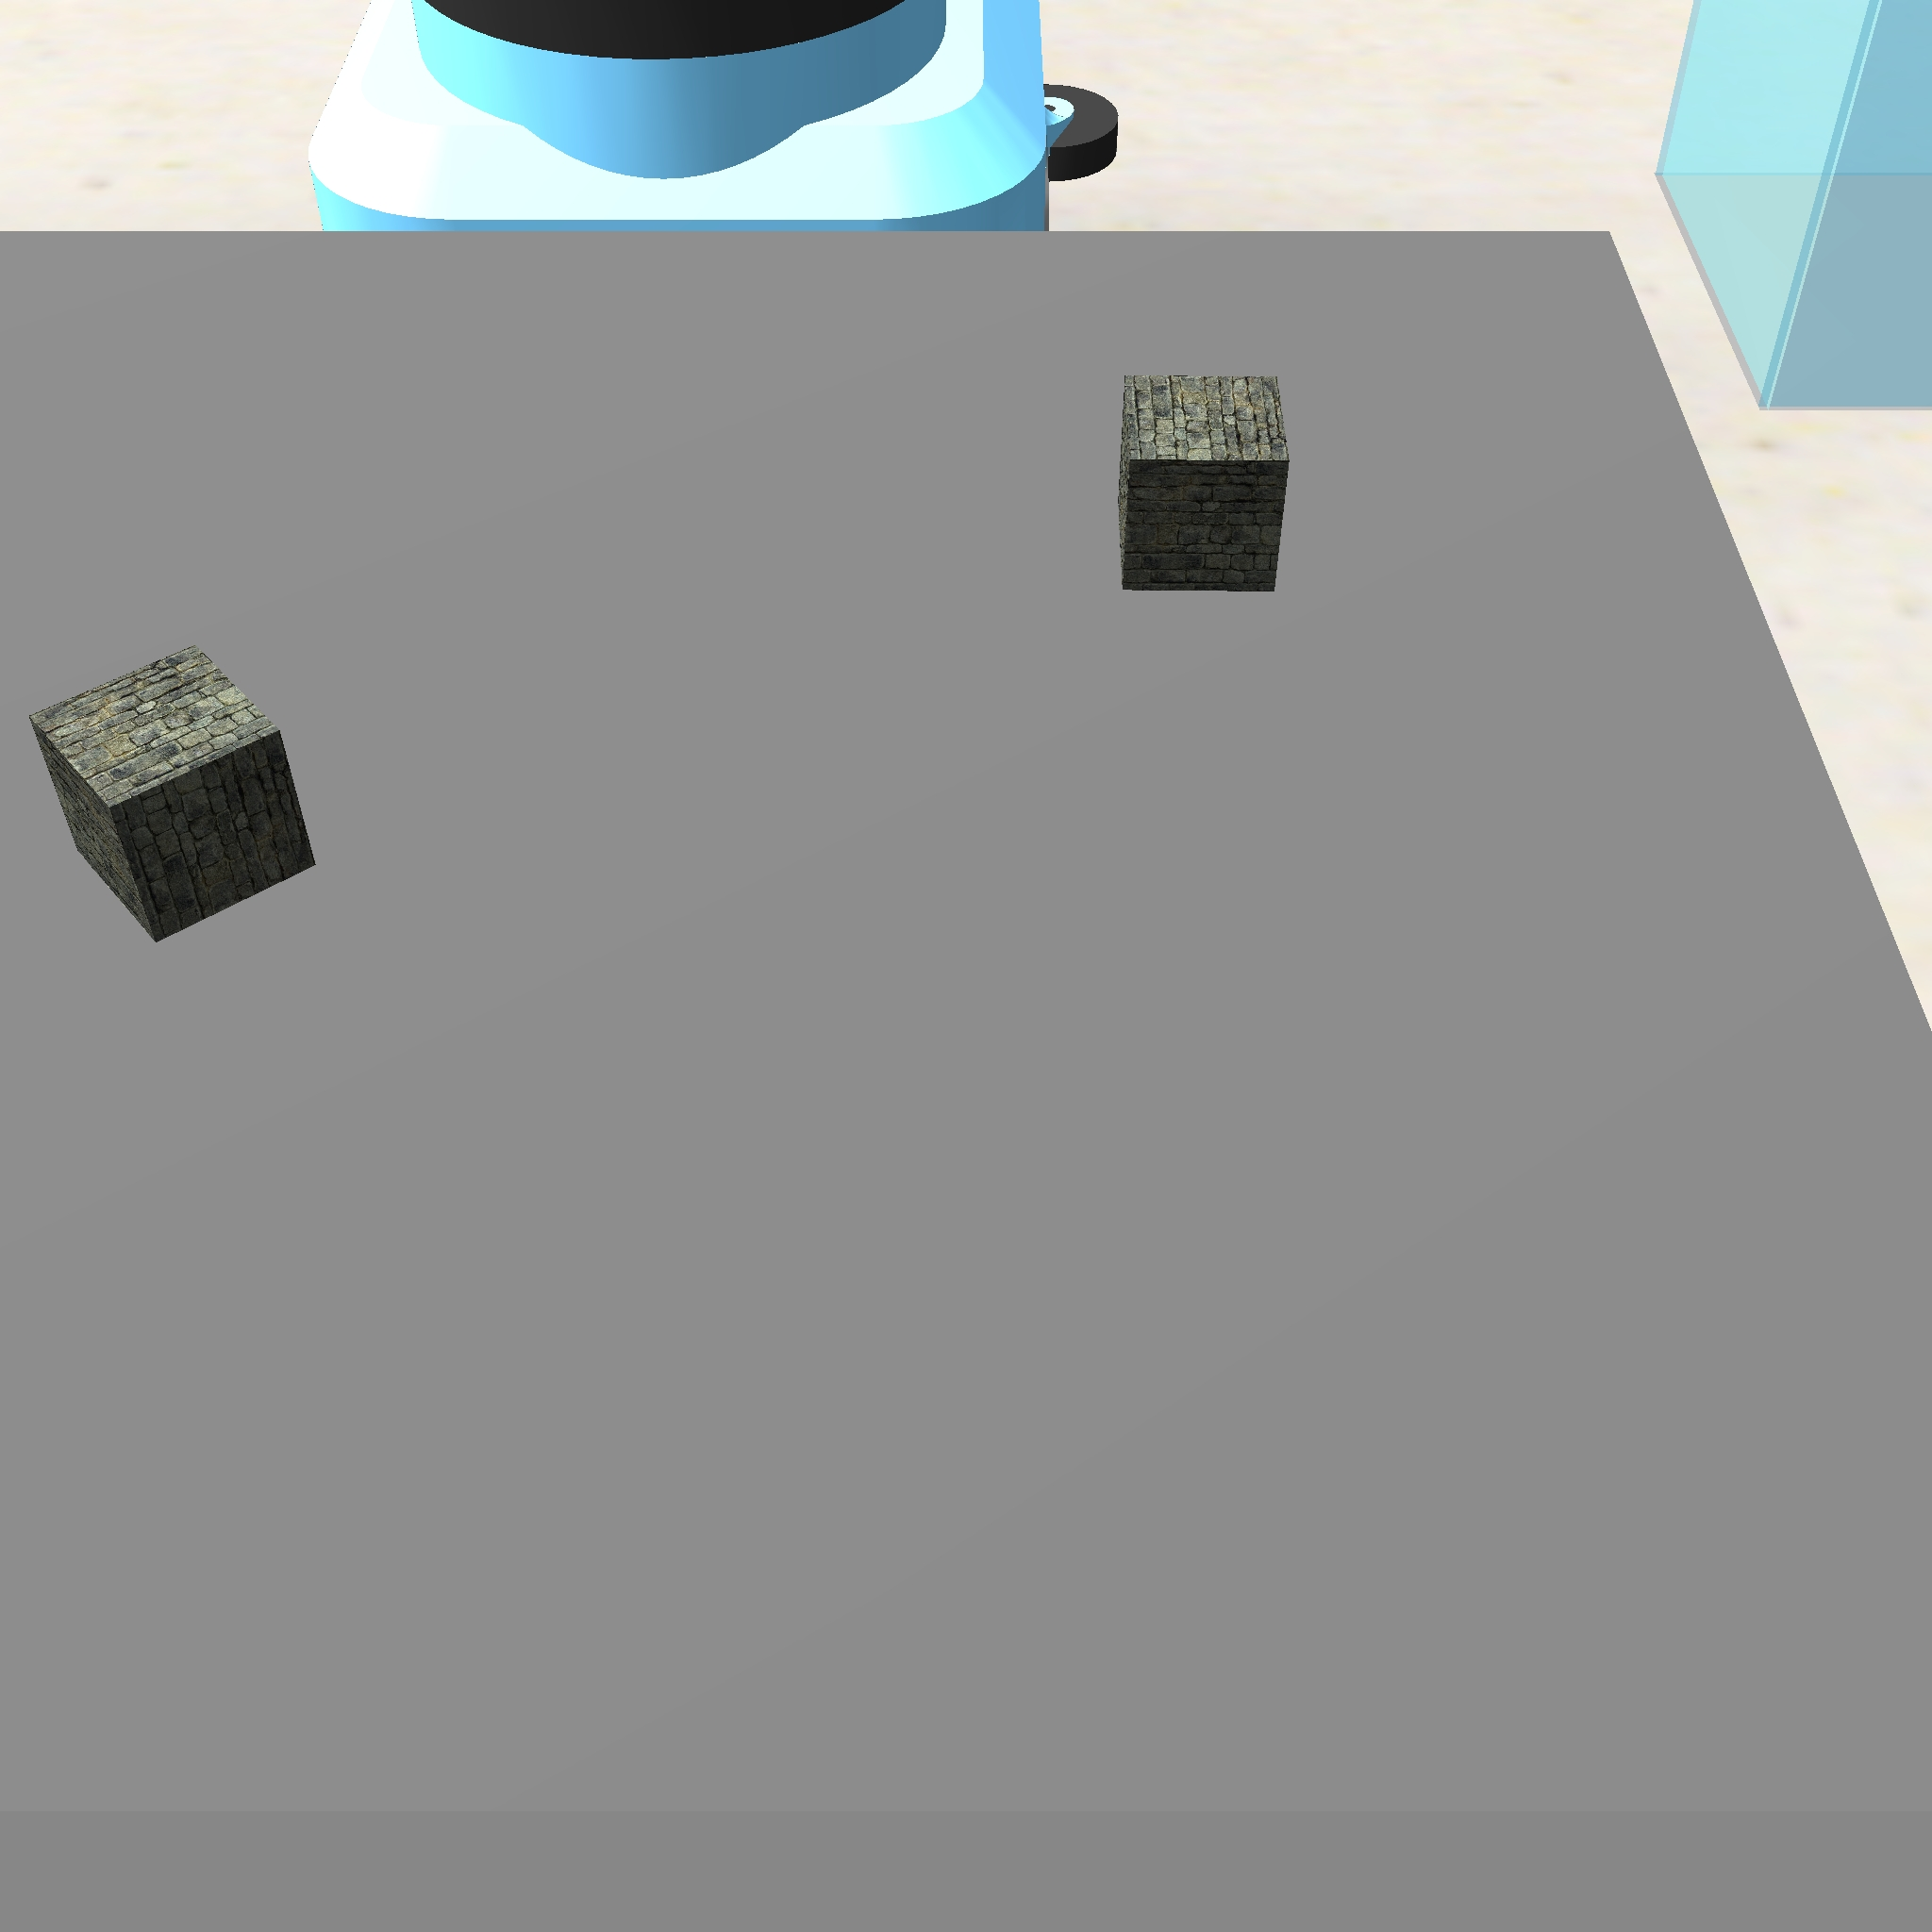cube: (19, 635, 329, 954), (1111, 361, 1300, 602)
